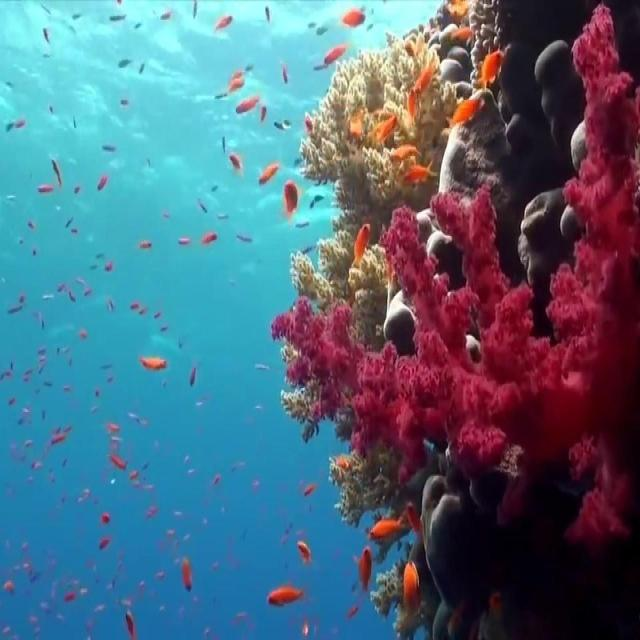fish: (350, 546, 379, 620), (446, 99, 485, 133), (369, 516, 411, 546), (350, 222, 370, 274), (267, 582, 307, 605), (402, 564, 418, 616), (142, 357, 170, 372)
reefs: (269, 0, 639, 639), (271, 3, 639, 552)
